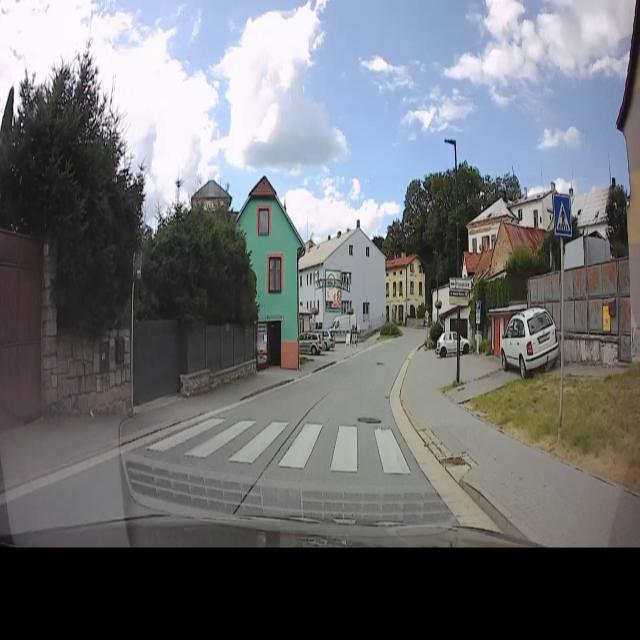Pedestrian crosswalk: (142, 413, 420, 477), (552, 190, 572, 238)
